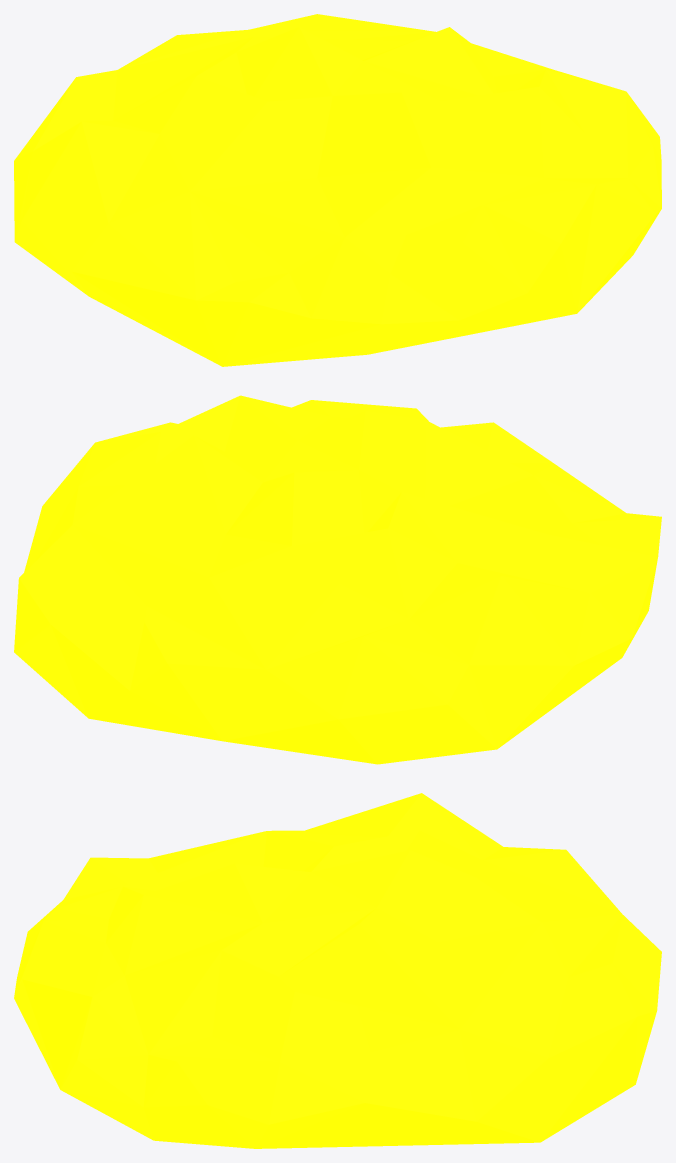
Rendered from cookie-chocolate-chip.glb.
The picture shows the model from 3 angles, top to bottom: view 1: azimuth 30°, elevation 25°; view 2: azimuth 150°, elevation 25°; view 3: azimuth 270°, elevation 25°; orthographic projection.
Parts seen in each view (by area): view 1: cookie_chocolate_chip; view 2: cookie_chocolate_chip; view 3: cookie_chocolate_chip.
Boxes of the visible parts, bbox=[...] form: cookie_chocolate_chip: bbox=[14, 14, 661, 366]; cookie_chocolate_chip: bbox=[14, 395, 661, 764]; cookie_chocolate_chip: bbox=[14, 793, 661, 1148].
Bounding box in the file's own units: 0.0811 × 0.0276 × 0.0786.
1 material, 1 textured.
